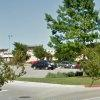Tree: (41, 0, 100, 56)
